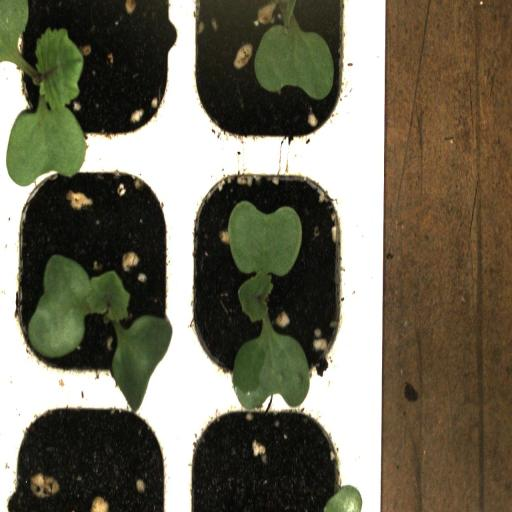seedling: (179, 149, 363, 395), (5, 152, 181, 388), (4, 0, 185, 145)
